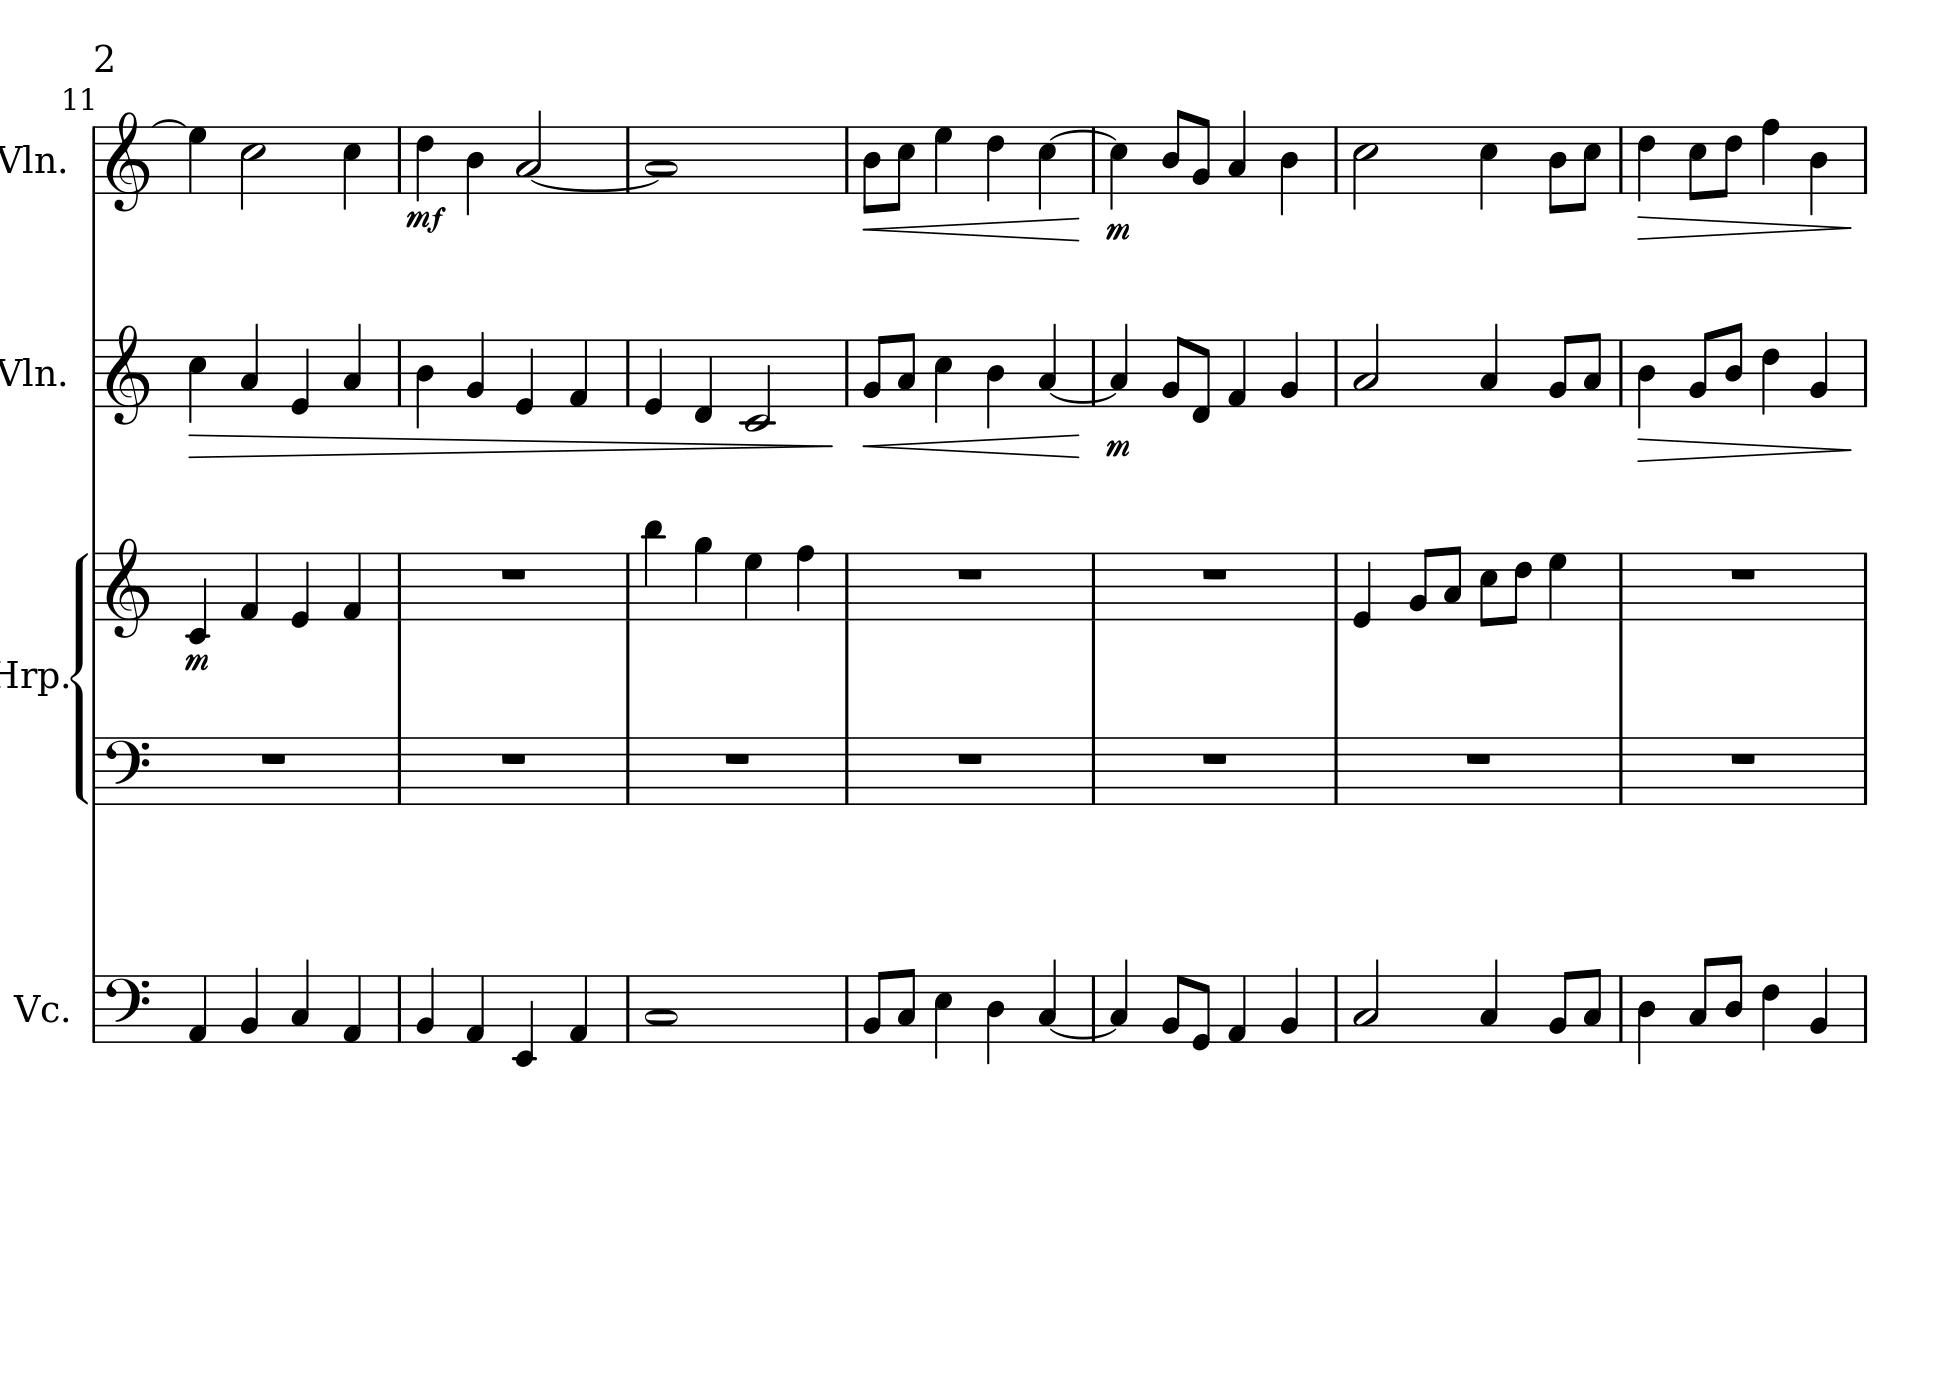1: (79, 85, 96, 112), (61, 85, 76, 112)
1_3: (643, 970, 679, 1042), (643, 124, 678, 196)
2: (93, 42, 114, 72)
2_-2: (741, 336, 774, 430)
2_3: (513, 106, 544, 195), (1351, 322, 1380, 406), (1353, 957, 1380, 1041)
2_5: (238, 124, 265, 211), (1351, 124, 1378, 210)
4_-1: (691, 336, 715, 424)
4_-2: (184, 550, 210, 646), (511, 972, 537, 1066)
4_0: (640, 336, 664, 415), (513, 337, 535, 417), (288, 550, 310, 630), (1351, 549, 1374, 628), (288, 337, 310, 415)
4_1: (565, 336, 589, 406), (235, 550, 259, 621), (565, 972, 589, 1042), (340, 550, 364, 619), (186, 973, 208, 1044), (340, 973, 363, 1044), (463, 972, 486, 1042)
4_11: (640, 517, 667, 621)
4_2: (1278, 964, 1302, 1042), (463, 328, 486, 406), (1278, 330, 1300, 408), (238, 964, 261, 1042), (414, 964, 436, 1042), (1809, 328, 1830, 408), (1809, 964, 1830, 1044)
4_3: (238, 321, 261, 406), (340, 321, 363, 406), (1036, 322, 1059, 406), (1108, 322, 1131, 406), (289, 955, 310, 1042), (1479, 322, 1500, 408), (1110, 957, 1131, 1042), (1227, 109, 1248, 193), (1479, 958, 1500, 1042), (1038, 957, 1057, 1042)
4_4: (412, 337, 436, 430), (463, 124, 487, 216), (984, 337, 1006, 429), (1636, 337, 1657, 429), (1636, 973, 1657, 1065), (1278, 124, 1299, 214), (985, 973, 1006, 1063), (1809, 124, 1828, 216)
4_5: (1108, 124, 1131, 211), (1036, 123, 1057, 211), (340, 124, 361, 211), (1479, 124, 1500, 211), (931, 337, 952, 424), (931, 973, 952, 1060), (187, 337, 207, 426)
4_6: (984, 124, 1005, 204), (1761, 972, 1782, 1051), (414, 124, 433, 204), (1761, 337, 1780, 417), (1636, 124, 1656, 202)
4_7: (742, 550, 765, 622), (186, 124, 208, 195), (931, 124, 954, 195), (1546, 550, 1569, 619)
4_8: (793, 541, 817, 622), (1761, 115, 1780, 195)
4_9: (691, 534, 715, 622)
8_-1: (1191, 337, 1212, 424)
8_0: (1191, 973, 1212, 1051)
8_1: (1224, 336, 1249, 408), (1225, 973, 1249, 1042)
8_2: (1687, 328, 1714, 406), (1159, 334, 1188, 406), (1546, 333, 1573, 408), (1407, 546, 1434, 621), (1546, 967, 1573, 1042), (861, 331, 886, 408), (861, 967, 886, 1044), (1161, 972, 1188, 1042), (1191, 115, 1212, 195)
8_3: (1687, 955, 1714, 1044), (1581, 330, 1602, 409), (895, 966, 916, 1044), (895, 331, 916, 408), (1443, 544, 1462, 622), (1582, 966, 1602, 1044)
8_4: (1161, 106, 1188, 193), (859, 124, 882, 217), (1723, 321, 1744, 408), (1548, 124, 1567, 216), (1725, 952, 1744, 1042)
8_5: (889, 124, 916, 213), (1575, 124, 1602, 213), (1477, 550, 1498, 628), (1687, 124, 1707, 202)
8_6: (1506, 550, 1533, 625), (1717, 124, 1743, 199)
Brace: (70, 547, 88, 804)
Crescendo_hairpin: (865, 432, 1083, 459), (867, 216, 1083, 241)
Diminuendo_hairpin: (187, 430, 832, 463), (1638, 214, 1852, 244), (1638, 436, 1857, 463)
Fclef: (103, 973, 151, 1044), (103, 735, 151, 799)
Gclef: (103, 534, 151, 639), (105, 322, 151, 429), (105, 109, 150, 214)
Hrp: (1, 655, 58, 697)
Rests1: (256, 748, 289, 766), (954, 748, 987, 766), (498, 748, 529, 766), (721, 748, 753, 766), (954, 565, 987, 582), (1200, 748, 1230, 766), (1728, 748, 1758, 766), (498, 565, 529, 582), (1200, 565, 1230, 582), (1728, 565, 1758, 582), (1464, 750, 1494, 765)
Single_barline: (618, 126, 637, 193), (838, 126, 856, 193), (619, 553, 637, 618), (1614, 337, 1630, 406), (1857, 973, 1873, 1042), (391, 126, 408, 193), (1857, 126, 1873, 193), (85, 339, 102, 406), (1857, 339, 1873, 406), (838, 552, 855, 619), (1857, 552, 1873, 619), (619, 736, 636, 804), (838, 736, 855, 804), (1857, 736, 1873, 804), (1329, 126, 1345, 192), (391, 339, 408, 405), (619, 339, 636, 405), (1086, 973, 1102, 1039), (619, 975, 636, 1041), (1086, 127, 1102, 192), (838, 975, 855, 1039), (87, 550, 102, 619), (1329, 736, 1344, 805), (87, 973, 102, 1042), (391, 552, 406, 619), (1614, 552, 1629, 619), (391, 736, 406, 804), (1086, 736, 1101, 804), (1614, 736, 1629, 804), (1614, 126, 1629, 192), (1329, 339, 1344, 405), (1086, 553, 1101, 619), (1329, 553, 1344, 619), (391, 975, 406, 1041), (1329, 975, 1344, 1041), (1086, 339, 1101, 403), (1614, 975, 1629, 1039), (87, 124, 100, 193), (88, 736, 102, 805), (840, 339, 853, 405)
Slur: (532, 178, 657, 190), (1048, 391, 1119, 403), (1050, 127, 1119, 139), (1050, 1027, 1119, 1038), (150, 117, 187, 127)
Vc: (7, 990, 64, 1024)
Vln: (1, 349, 57, 393), (1, 139, 58, 178)
m: (1104, 220, 1134, 244), (1102, 436, 1132, 460), (181, 649, 211, 673)
mf: (403, 202, 448, 238)
